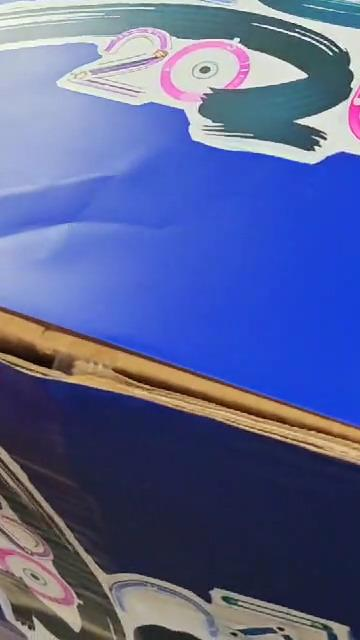B_R1: (2, 0, 360, 179)
